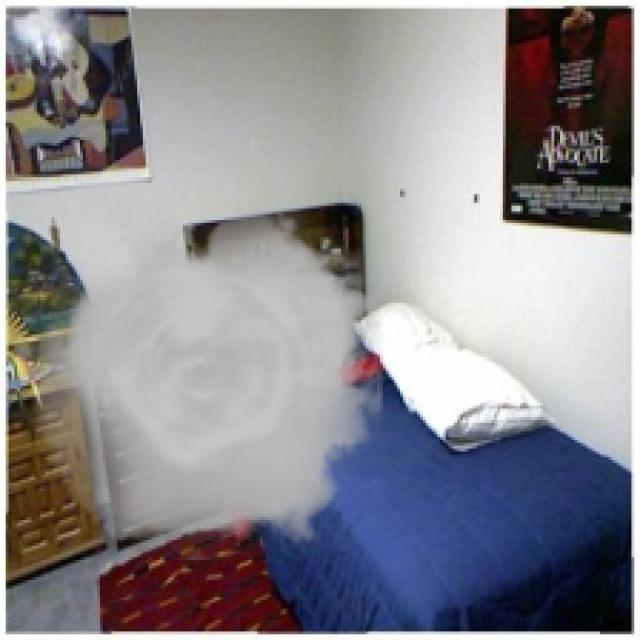Smoke: (31, 197, 383, 560)
